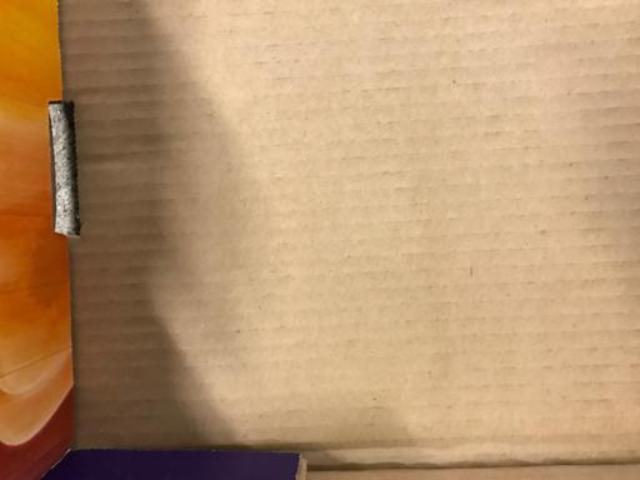cardboard paper: (61, 0, 639, 464)
